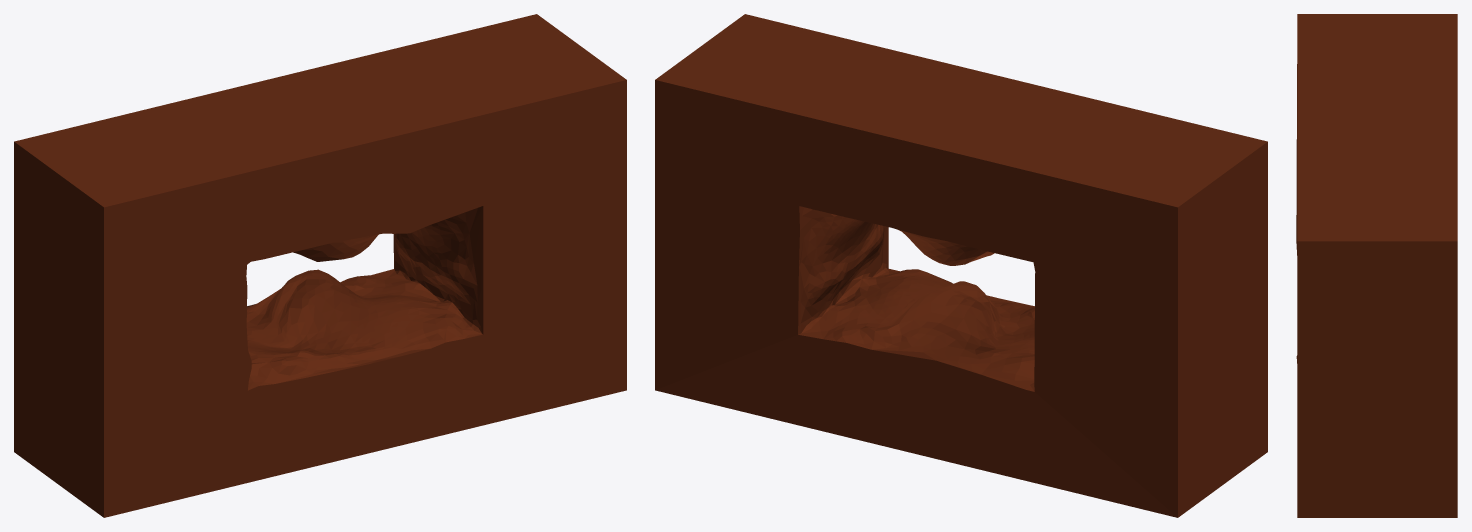
Rendered from BaseWorld_Level_09.glb.
The picture shows the model from 3 angles, left to right: view 1: azimuth 30°, elevation 25°; view 2: azimuth 150°, elevation 25°; view 3: azimuth 270°, elevation 25°; orthographic projection. The views are drawn at different scales.
Parts seen in each view (by area): view 1: Cube; view 2: Cube; view 3: Cube.
Part boxes in pixels (<box>): Cube: <box>14,14,626,517</box>; Cube: <box>655,14,1267,517</box>; Cube: <box>1296,14,1457,517</box>.
Size of the model in its own units: 67.08 by 38.07 by 20.14.
